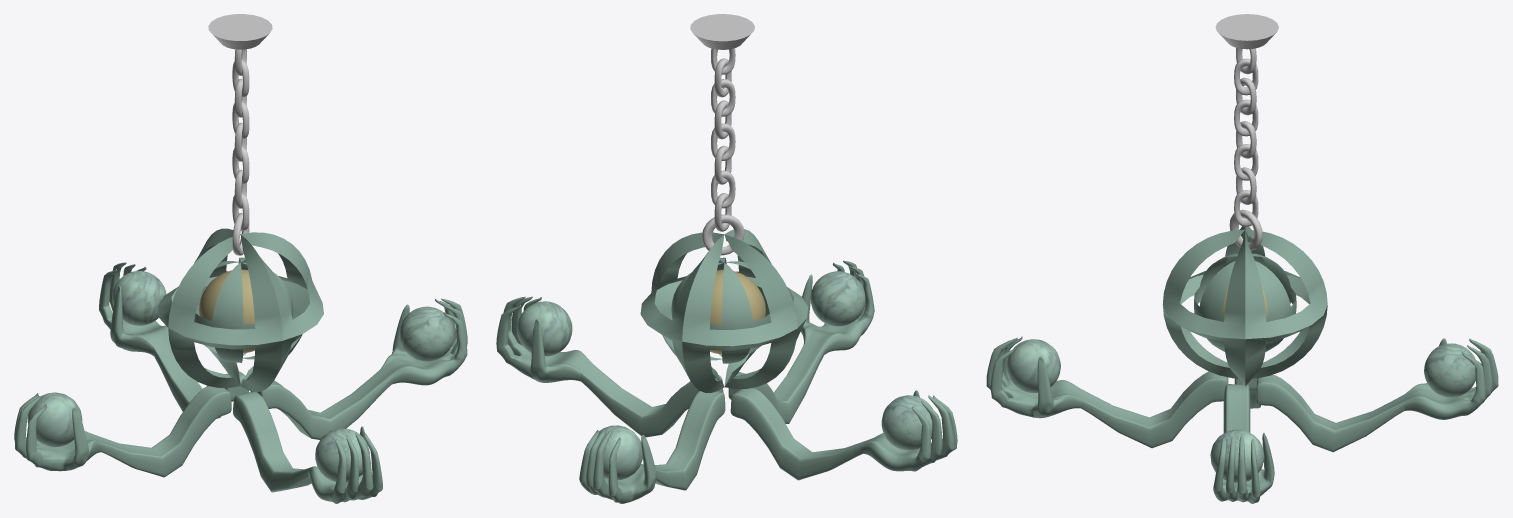
The model's file is props_Chandelier.fbx.
3 views of the same model, side by side, from view 1: azimuth 30°, elevation 25°; view 2: azimuth 150°, elevation 25°; view 3: azimuth 270°, elevation 25° (orthographic). The views are drawn at different scales.
Parts seen in each view (by area): view 1: pCube88; view 2: pCube88; view 3: pCube88.
Boxes of the visible parts, box(x1,y1,x2,y2) form: pCube88: box(14, 14, 467, 503); pCube88: box(496, 14, 957, 503); pCube88: box(986, 14, 1498, 503).
Size of the model in its own units: 839 by 758 by 839.
